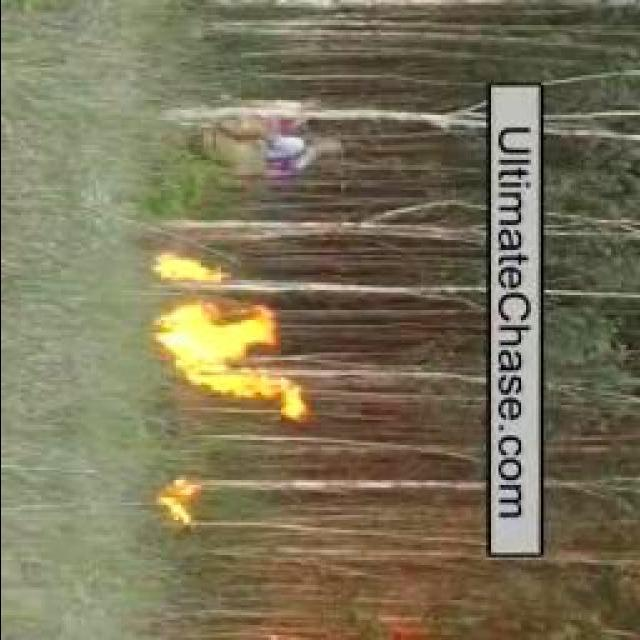Fire: (153, 306, 284, 400), (147, 257, 223, 282), (156, 481, 194, 524)
